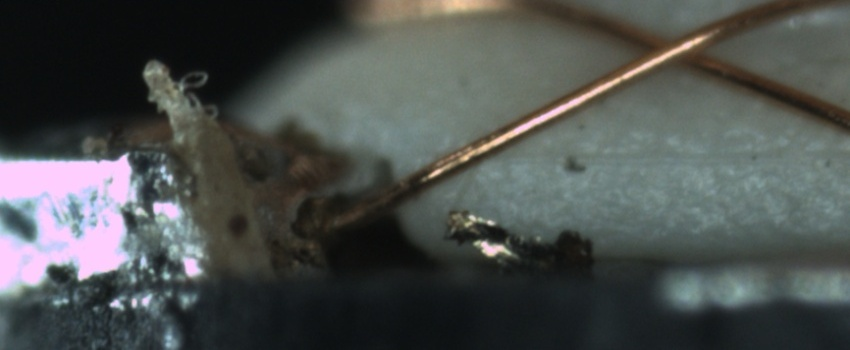CL: (620, 16, 726, 78)
DL: (474, 125, 850, 192)
